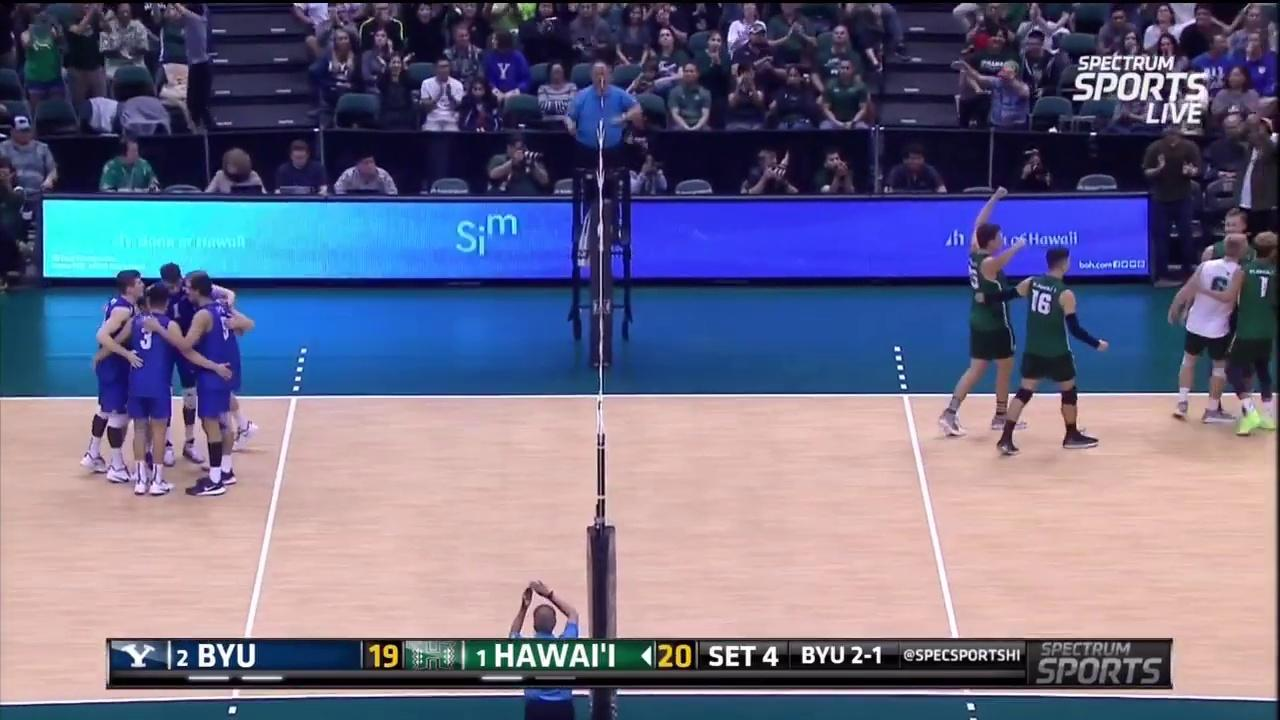player: (938, 182, 1036, 452), (995, 245, 1112, 459), (1168, 229, 1251, 437), (183, 269, 266, 450), (1200, 203, 1266, 420), (88, 261, 149, 484), (181, 280, 243, 497), (125, 287, 186, 501), (146, 260, 206, 466), (1231, 229, 1280, 432), (1231, 447, 1231, 448)
refree: (497, 578, 594, 718), (566, 56, 641, 225)
